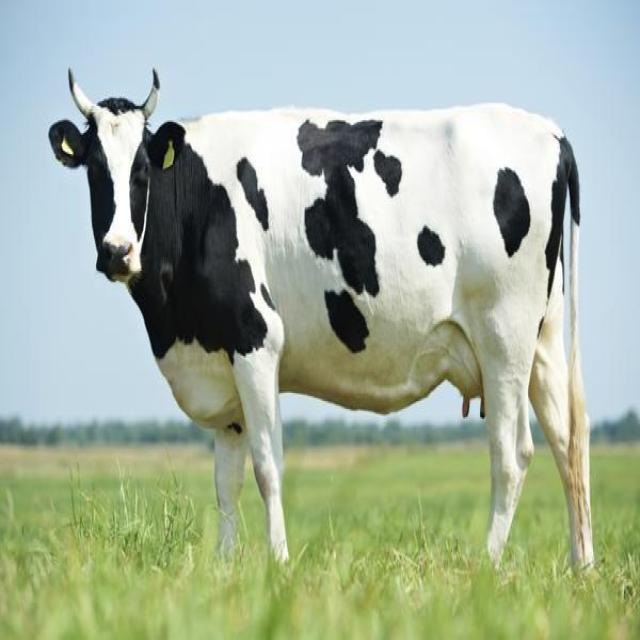cowFace: (33, 38, 189, 308)
